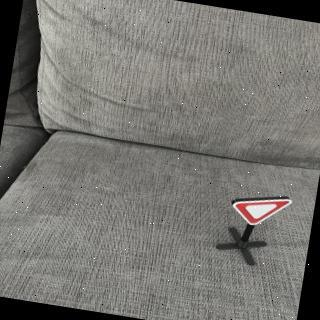sign_yield: (228, 186, 296, 234)
